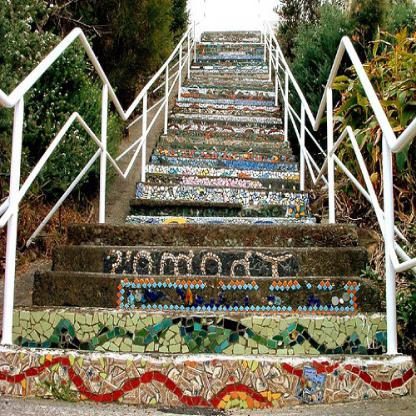stairs: (105, 226, 326, 415)
